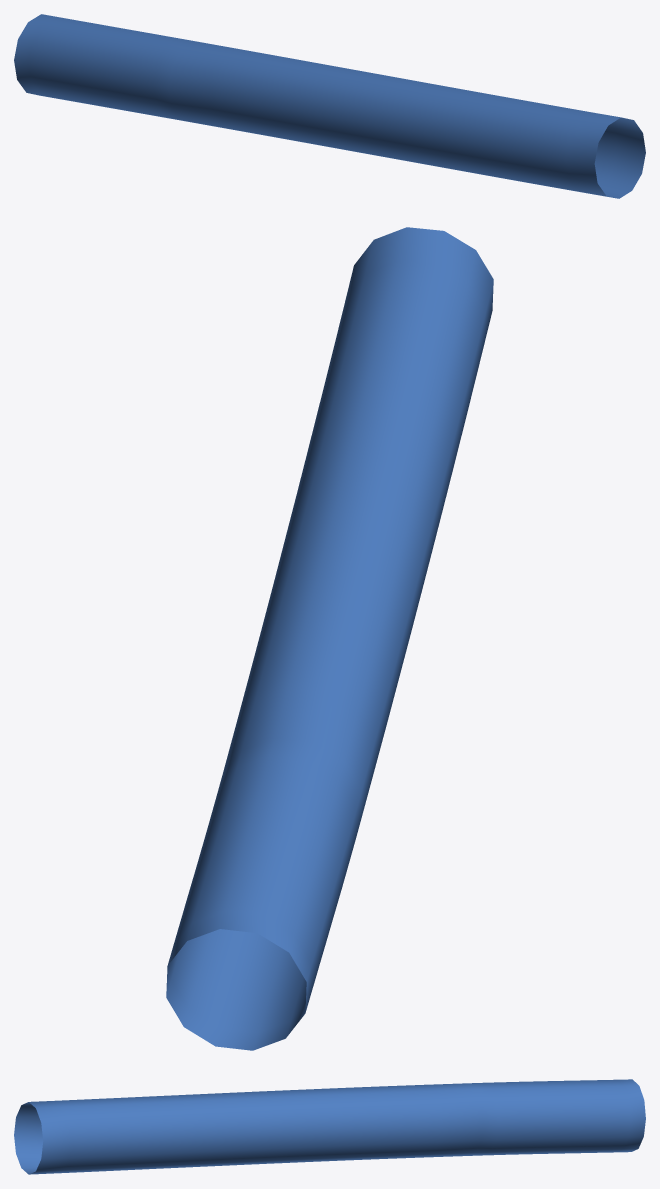
3 renders of one model, top to bottom at view 1: azimuth 30°, elevation 25°; view 2: azimuth 150°, elevation 25°; view 3: azimuth 270°, elevation 25°, orthographic. The views are drawn at different scales.
Visible parts, largest first — view 1: 左侧下颌后静脉前支; view 2: 左侧下颌后静脉前支; view 3: 左侧下颌后静脉前支.
Part boxes in pixels (box(x1,y1,x2,y2)): 左侧下颌后静脉前支: box(14, 14, 645, 198); 左侧下颌后静脉前支: box(166, 227, 493, 1050); 左侧下颌后静脉前支: box(14, 1079, 645, 1174).
Bounding box in the file's own units: 0.0149 × 0.00766 × 0.0306.
